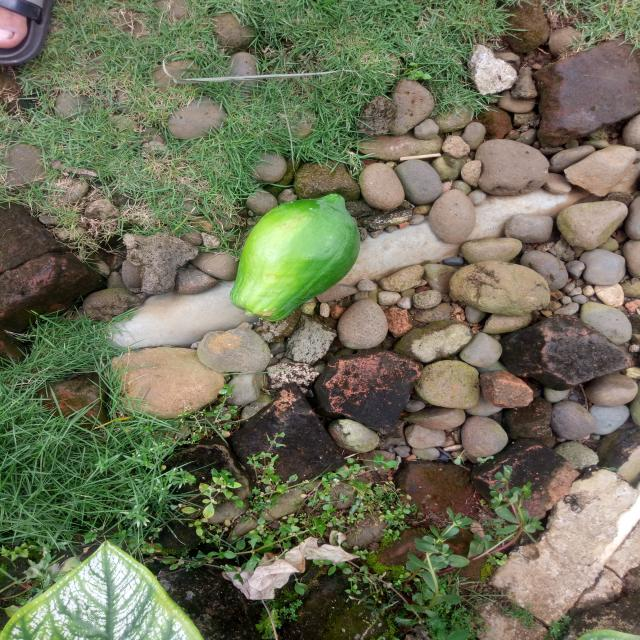Pepaya unrippen: (223, 185, 368, 321)
